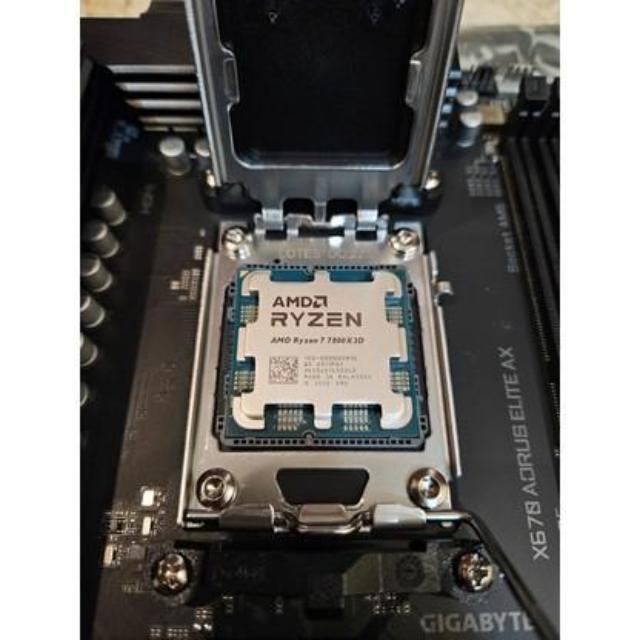CPU: (240, 270, 414, 432)
